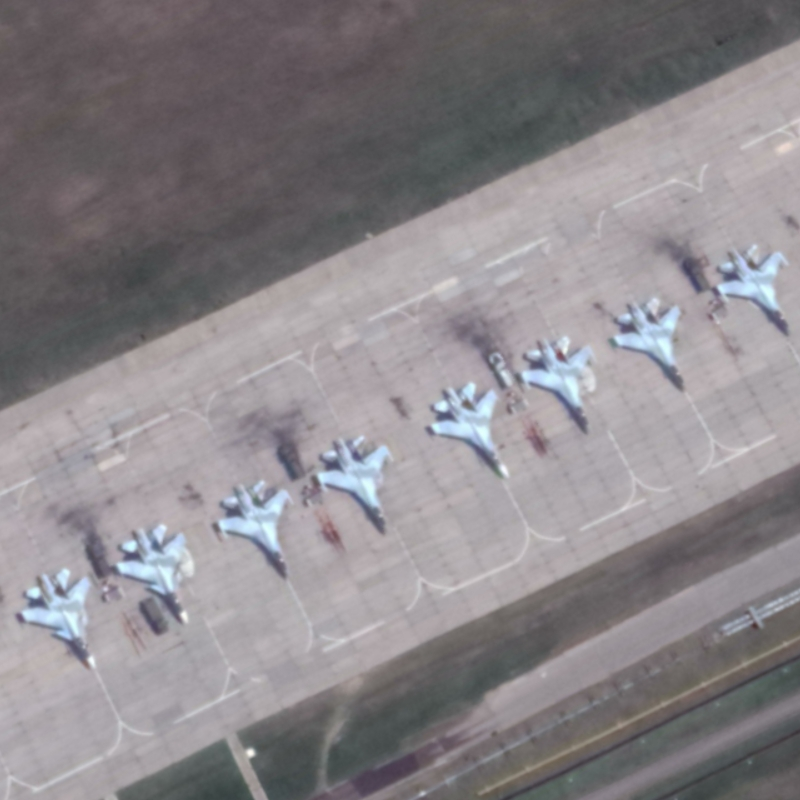A1: (426, 378, 515, 482), (710, 240, 796, 340), (212, 476, 296, 578), (311, 434, 399, 531), (518, 333, 600, 435), (609, 293, 691, 394)
A19: (17, 565, 99, 672), (112, 521, 194, 627)
